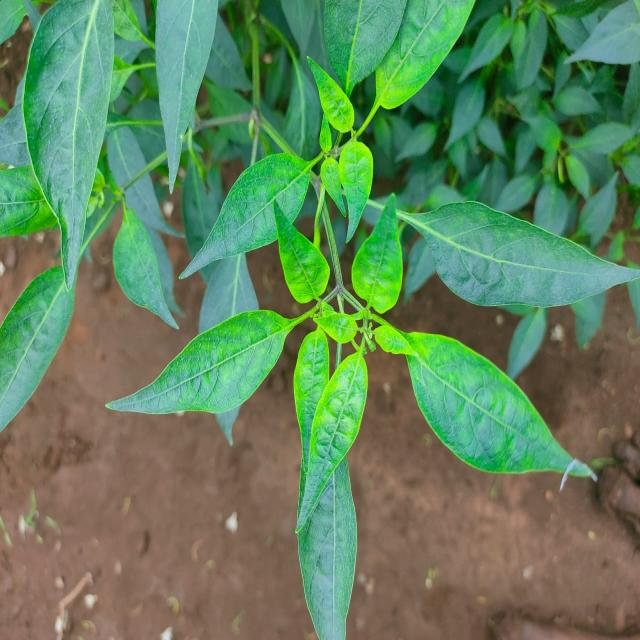Mosaic_virus: (0, 0, 640, 528)
